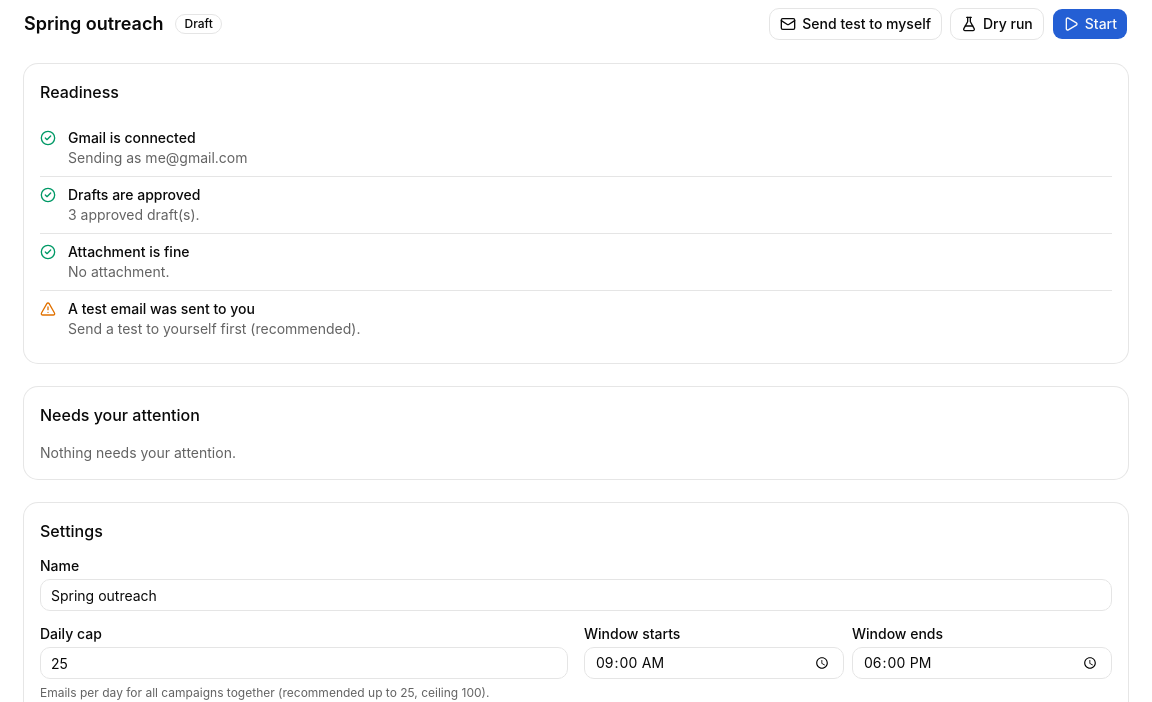
Test: campaign detail › warns above the recommended daily cap and validates before saving
Step 1. Replace the text in the field labelled "Daily cap" with "60" → x=304, y=663, box [40, 647, 568, 679]
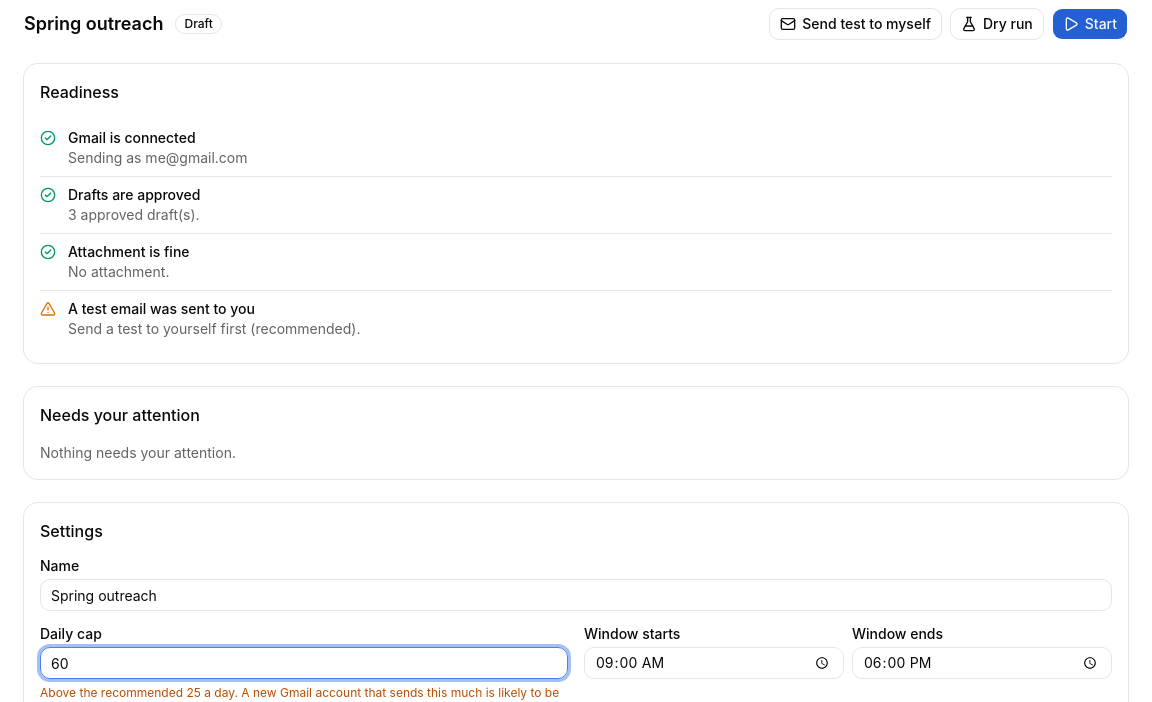
Step 2. Replace the text in the field labelled "Daily cap" with "500" → x=304, y=663, box [40, 647, 568, 679]
(page scrolled)
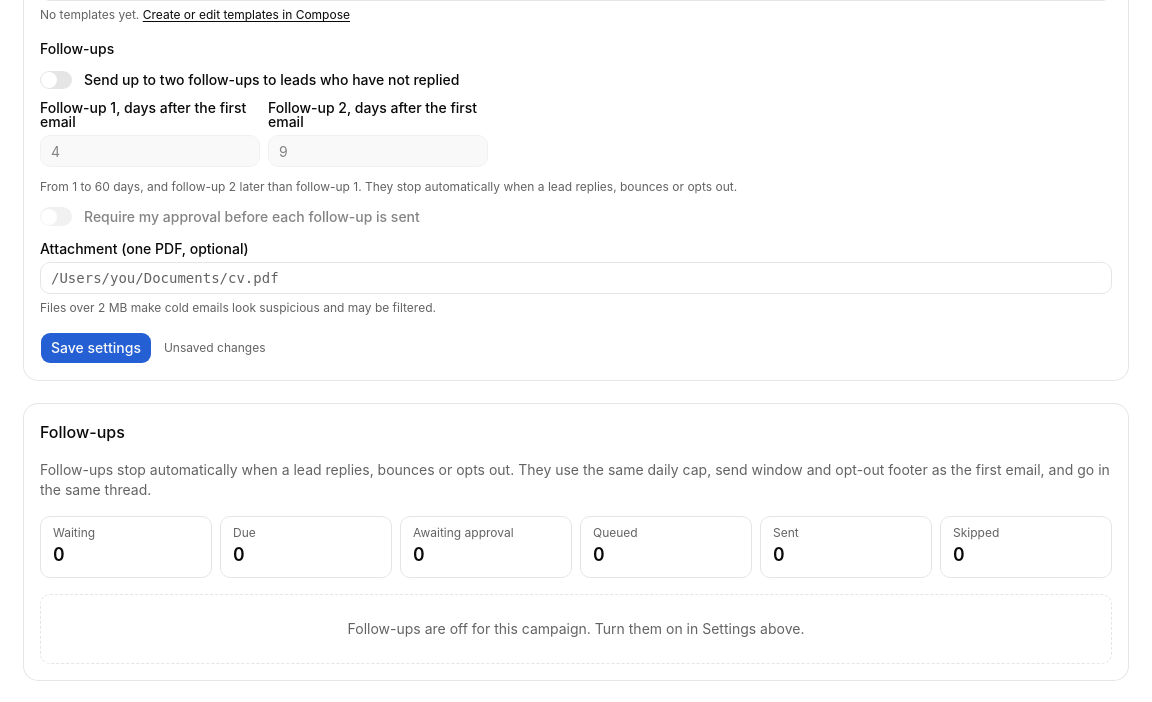
Step 3. Click the button "Save settings" → x=96, y=348, box [40, 332, 152, 364]
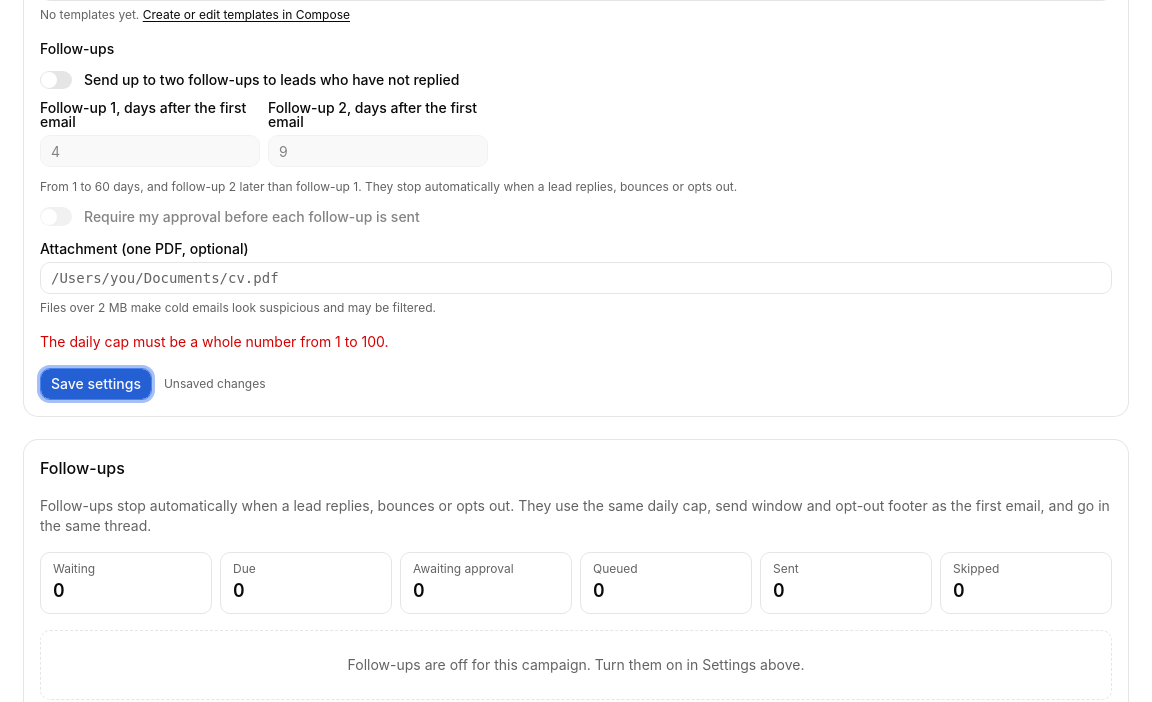
Result: the text "The daily cap must be a whole number from 1 to 100." is shown at [40, 333, 389, 350]
